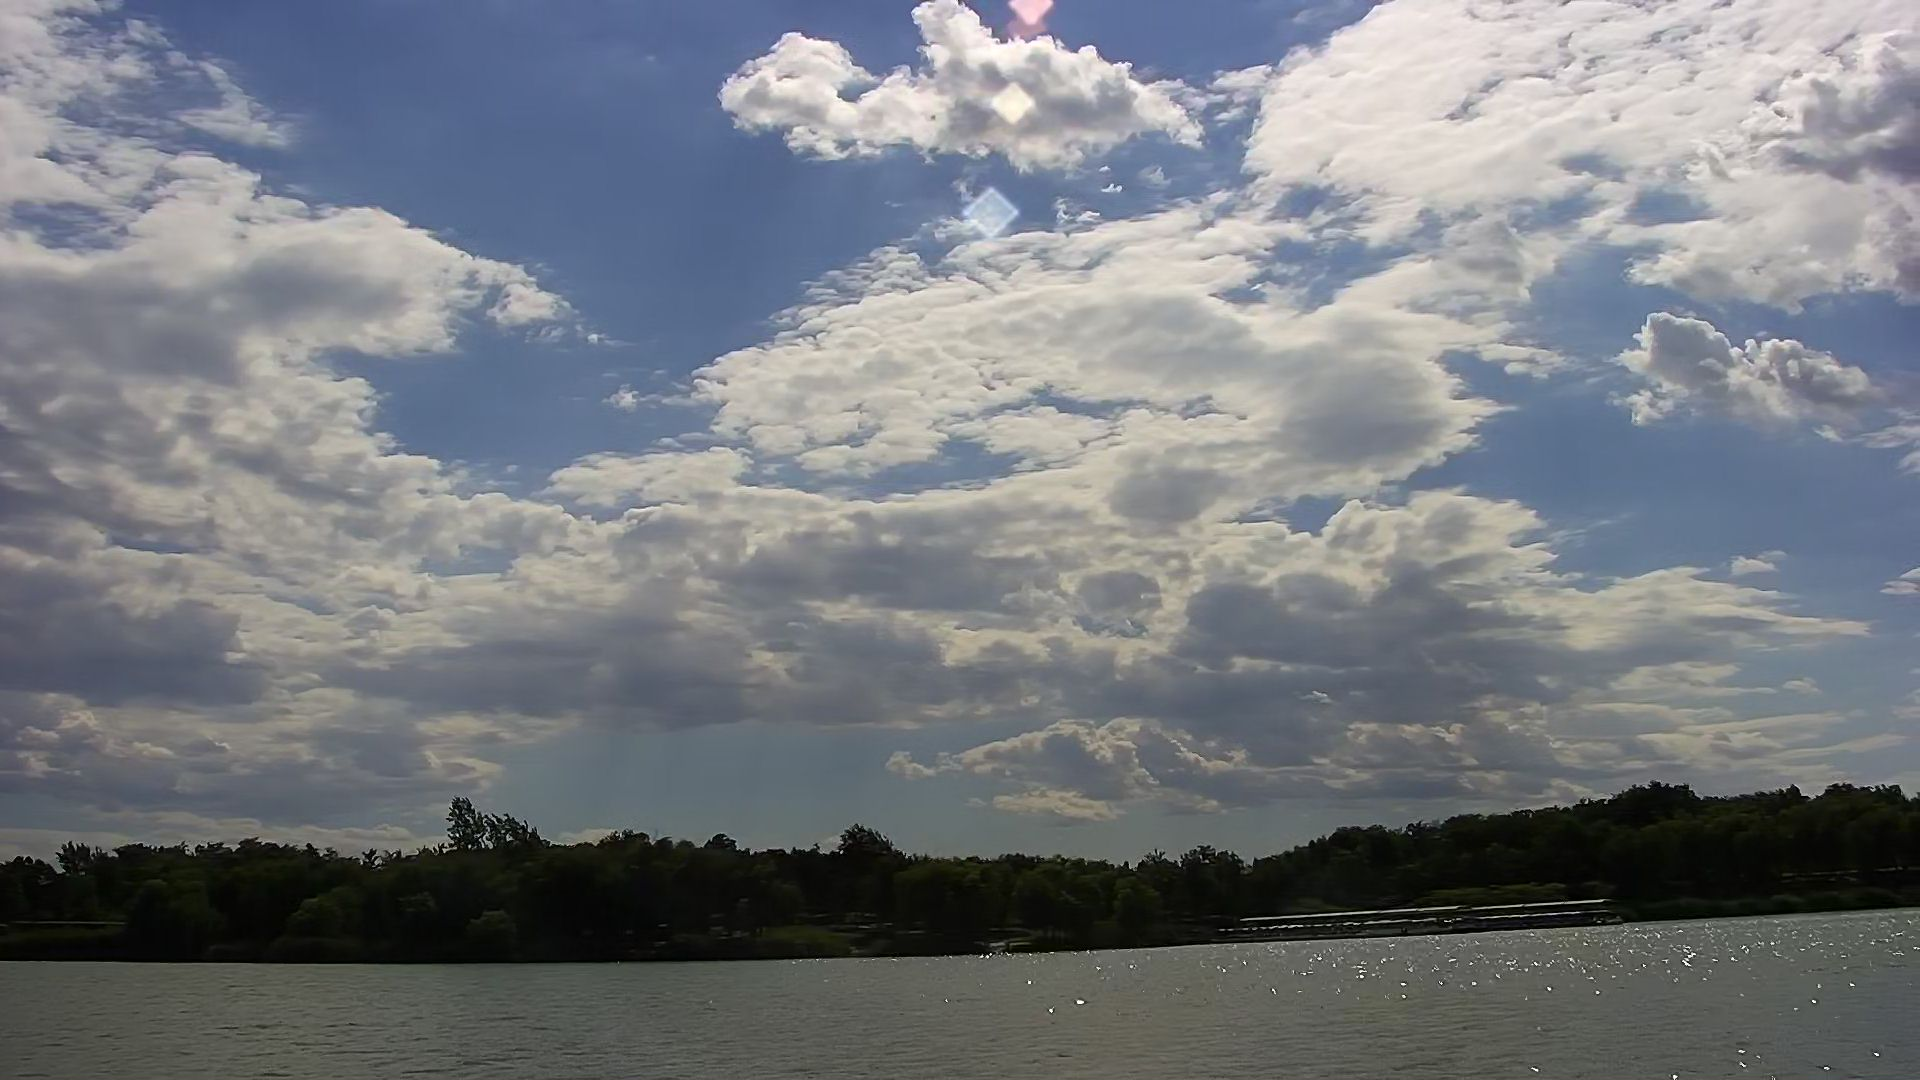harbor: (1212, 890, 1640, 945)
